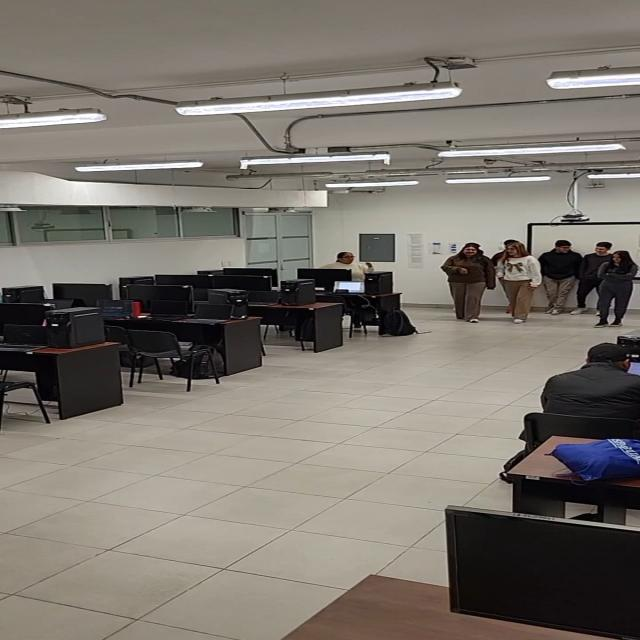Persona: (446, 244, 491, 319), (502, 244, 538, 318), (607, 252, 640, 321), (543, 242, 574, 314), (586, 239, 608, 297), (326, 252, 374, 271)
